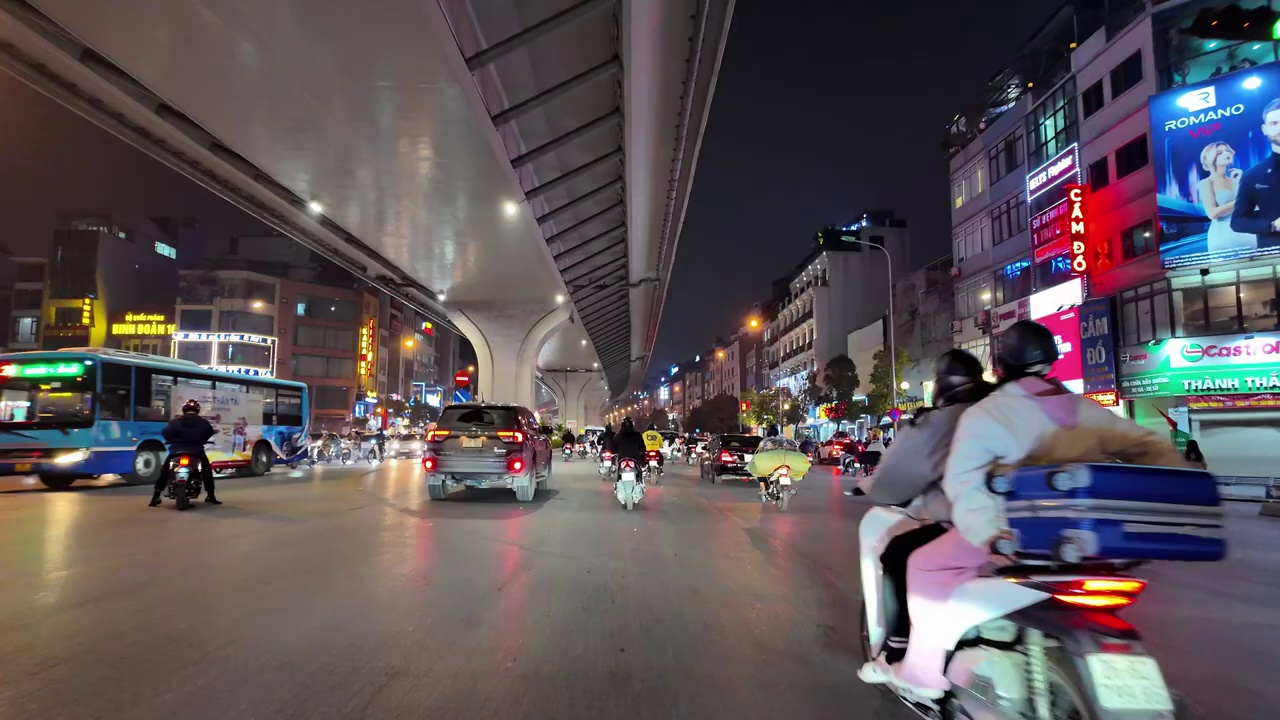acesa: (498, 197, 524, 224), (305, 198, 328, 221), (741, 313, 765, 334), (248, 298, 270, 316)
